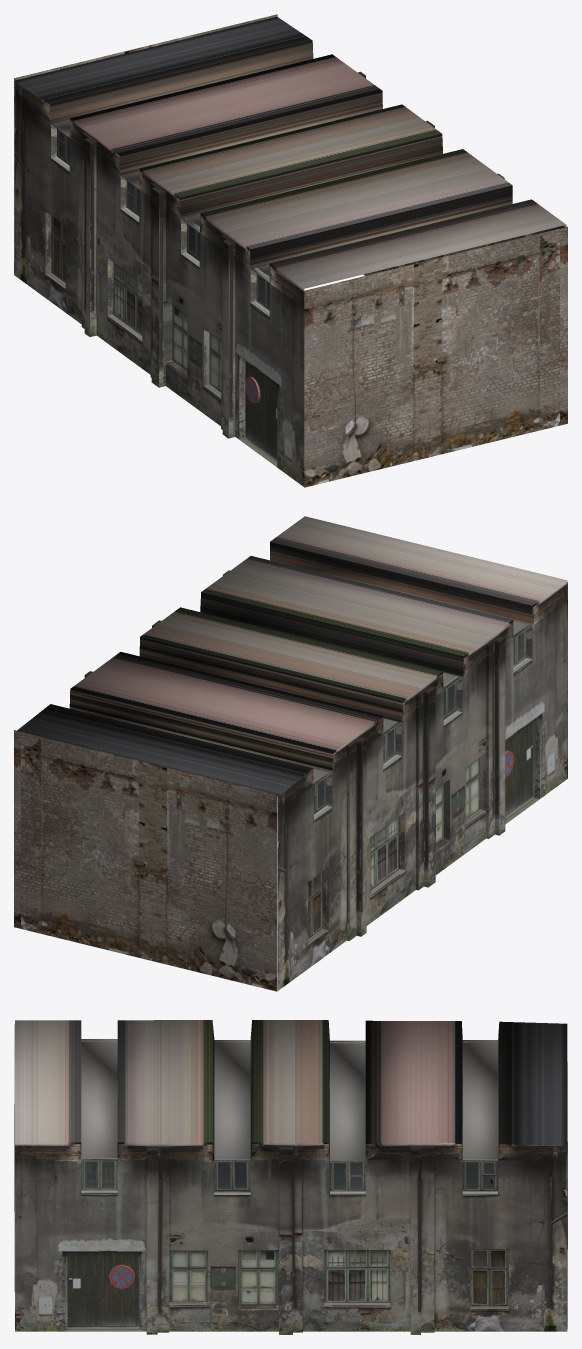
The model's file is BloqueEdifPeq.fbx.
3 renders of one model, top to bottom at view 1: azimuth 30°, elevation 25°; view 2: azimuth 150°, elevation 25°; view 3: azimuth 270°, elevation 25°, orthographic. The views are drawn at different scales.
Visible parts, largest first — view 1: BloqueEdifConSeñal; view 2: BloqueEdifConSeñal; view 3: BloqueEdifConSeñal.
Boxes of the visible parts, left/top/right/bottom form: BloqueEdifConSeñal: left=14, top=14, right=567, bottom=487; BloqueEdifConSeñal: left=14, top=516, right=567, bottom=991; BloqueEdifConSeñal: left=14, top=1020, right=567, bottom=1334.
Bounding box in the file's own units: 34.17 × 23.49 × 62.25.
Materials: 3 (3 with a texture image).
